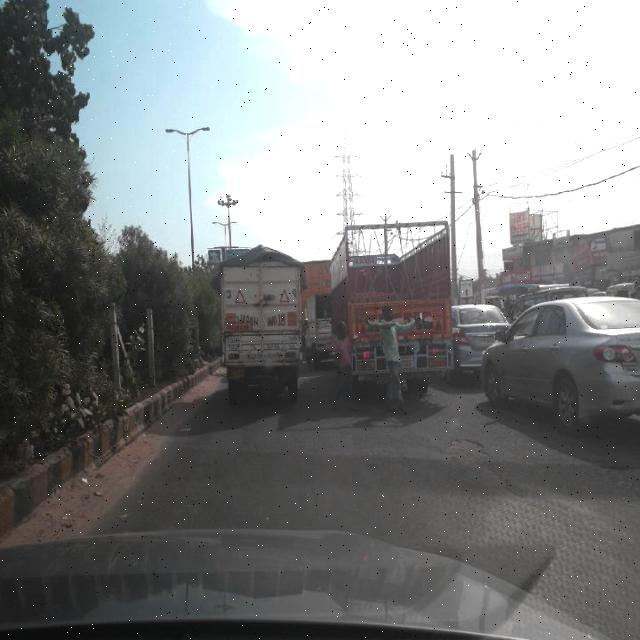D20: (118, 404, 282, 526)
D40: (446, 432, 492, 457)
